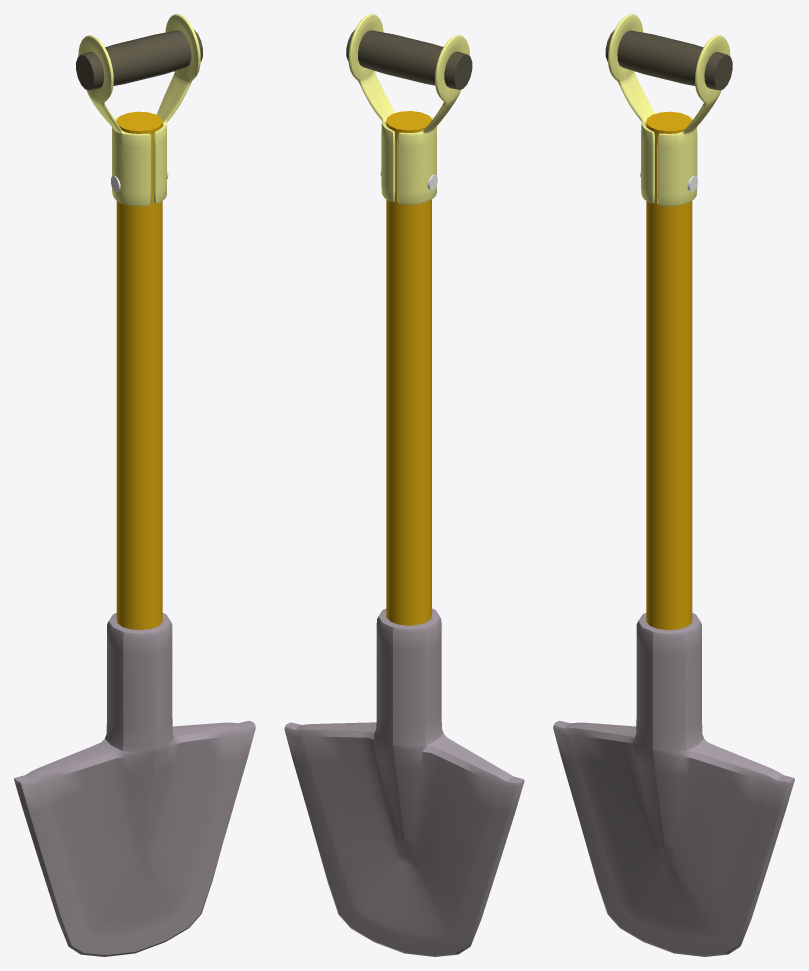
The model's file is sekop besar.fbx.
The picture shows the model from 3 angles, left to right: view 1: azimuth 30°, elevation 25°; view 2: azimuth 150°, elevation 25°; view 3: azimuth 330°, elevation 25°; orthographic projection.
Visible parts, largest first — view 1: Circle.019, Cylinder.086, Circle.020, Cylinder.085; view 2: Circle.019, Cylinder.086, Circle.020, Cylinder.085; view 3: Circle.019, Cylinder.086, Circle.020, Cylinder.085.
Boxes of the visible parts, <box> form: Circle.019: <box>14,613,255,956</box>; Cylinder.086: <box>116,111,162,629</box>; Circle.020: <box>78,14,200,206</box>; Cylinder.085: <box>76,30,202,90</box>; Circle.019: <box>284,608,524,956</box>; Cylinder.086: <box>386,111,431,625</box>; Circle.020: <box>348,14,469,204</box>; Cylinder.085: <box>346,29,472,89</box>; Circle.019: <box>553,613,794,956</box>; Cylinder.086: <box>646,111,692,629</box>; Circle.020: <box>608,14,730,206</box>; Cylinder.085: <box>605,29,732,90</box>.
Size of the model in its own units: 252 by 935 by 62.02.
